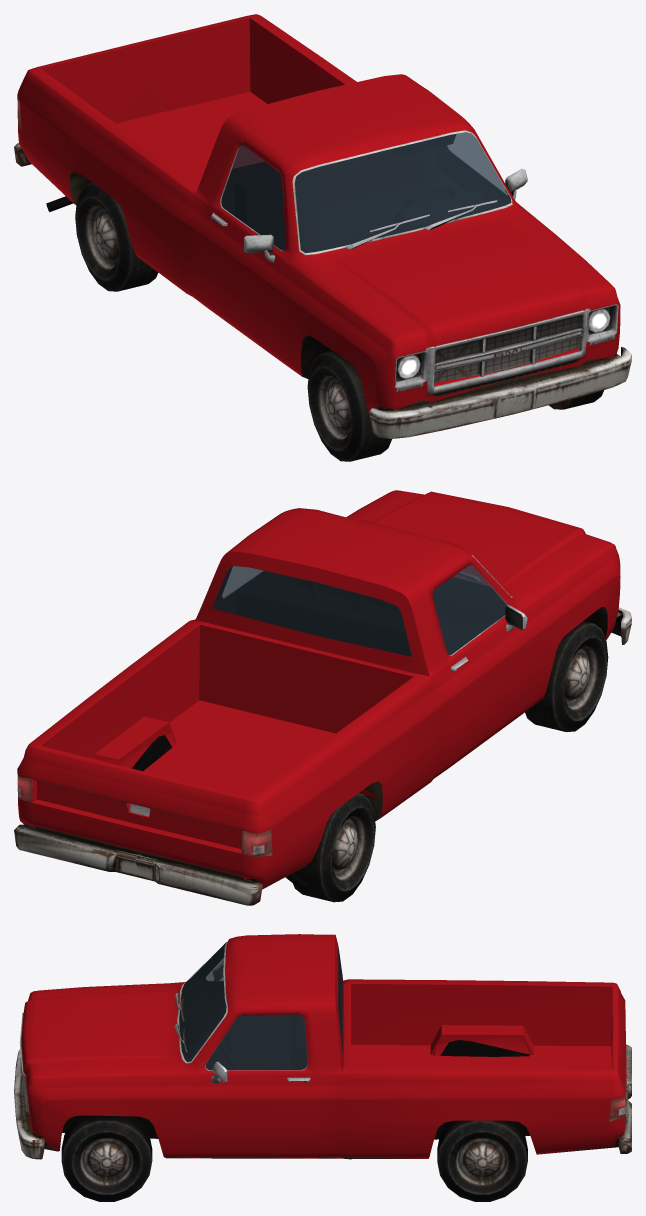
File: gmc_sierra_red_light.glb
3 views of the same model, one above another, from view 1: azimuth 30°, elevation 25°; view 2: azimuth 150°, elevation 25°; view 3: azimuth 270°, elevation 25° (orthographic). The views are drawn at different scales.
Parts seen in each view (by area): view 1: Body, Glass, Wheel_FL, Wheel_RL; view 2: Body, Glass, Wheel_FL, Wheel_RL; view 3: Body, Glass, Wheel_FR, Wheel_RR.
Boxes of the visible parts, x1,y1,x2,y2 form: Body: (14,14,631,438); Glass: (221,132,511,252); Wheel_FL: (307,350,391,461); Wheel_RL: (75,182,158,291); Body: (14,490,631,905); Glass: (212,563,510,656); Wheel_FL: (525,621,608,731); Wheel_RL: (293,793,375,902); Body: (14,934,631,1159); Glass: (179,943,342,1069); Wheel_FR: (61,1115,152,1201); Wheel_RR: (437,1120,527,1201).
Bounding box in the file's own units: 2.28 × 1.81 × 5.37.
Materials: 3 (1 with a texture image).
